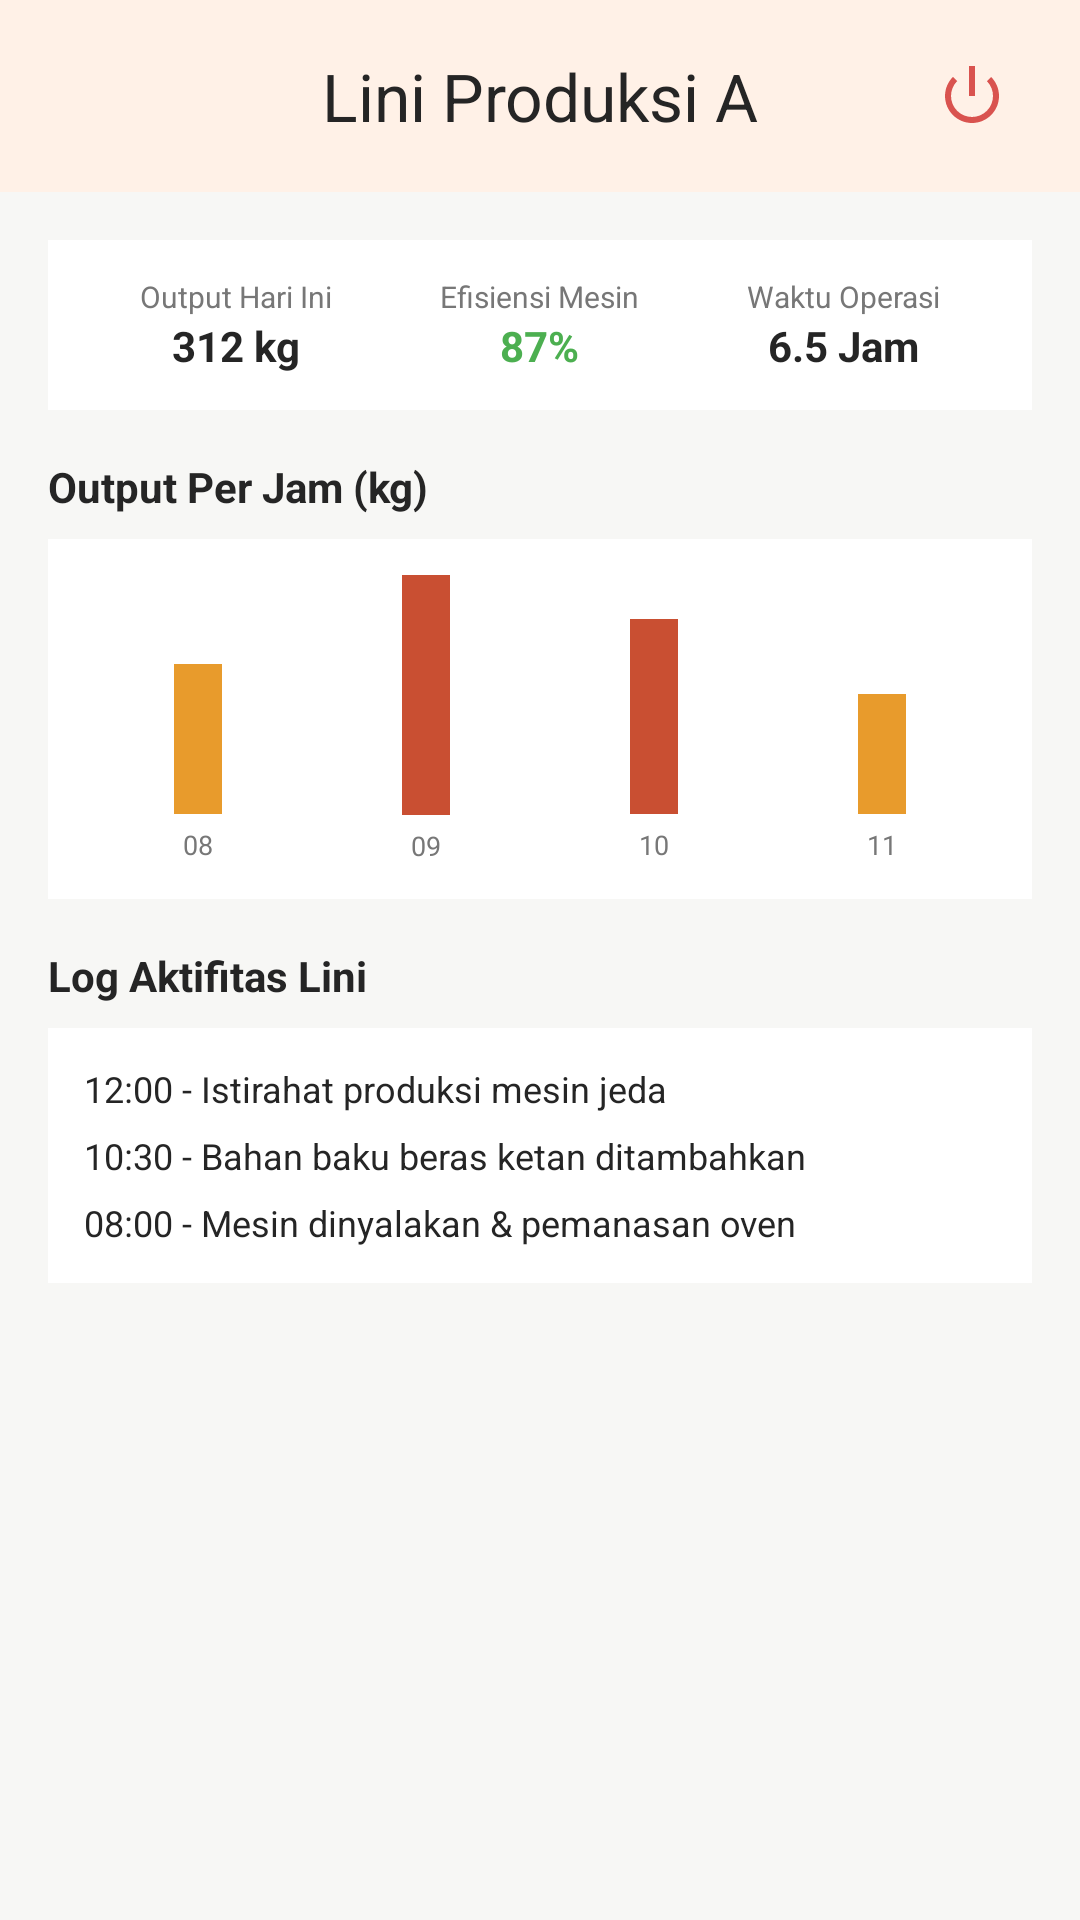

Icons on this 1080w x 1920h Android screen, each with the point to tap as (x=x, y=y):
Keluar: (x=972, y=94)
